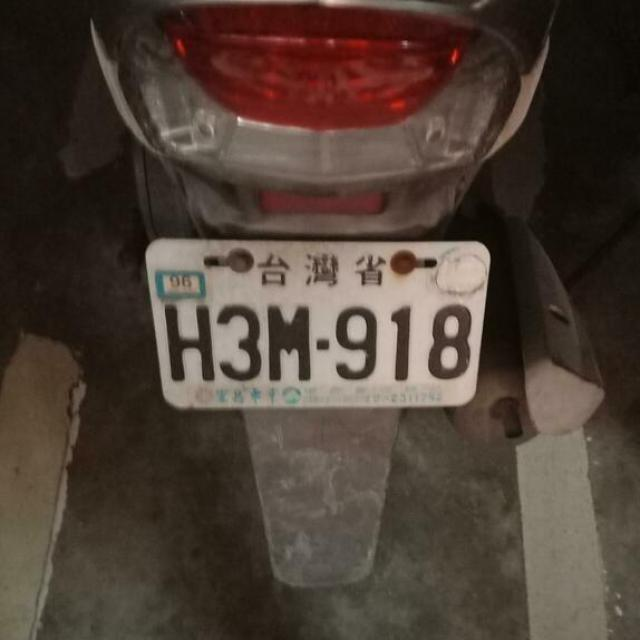W: (132, 218, 500, 428)
